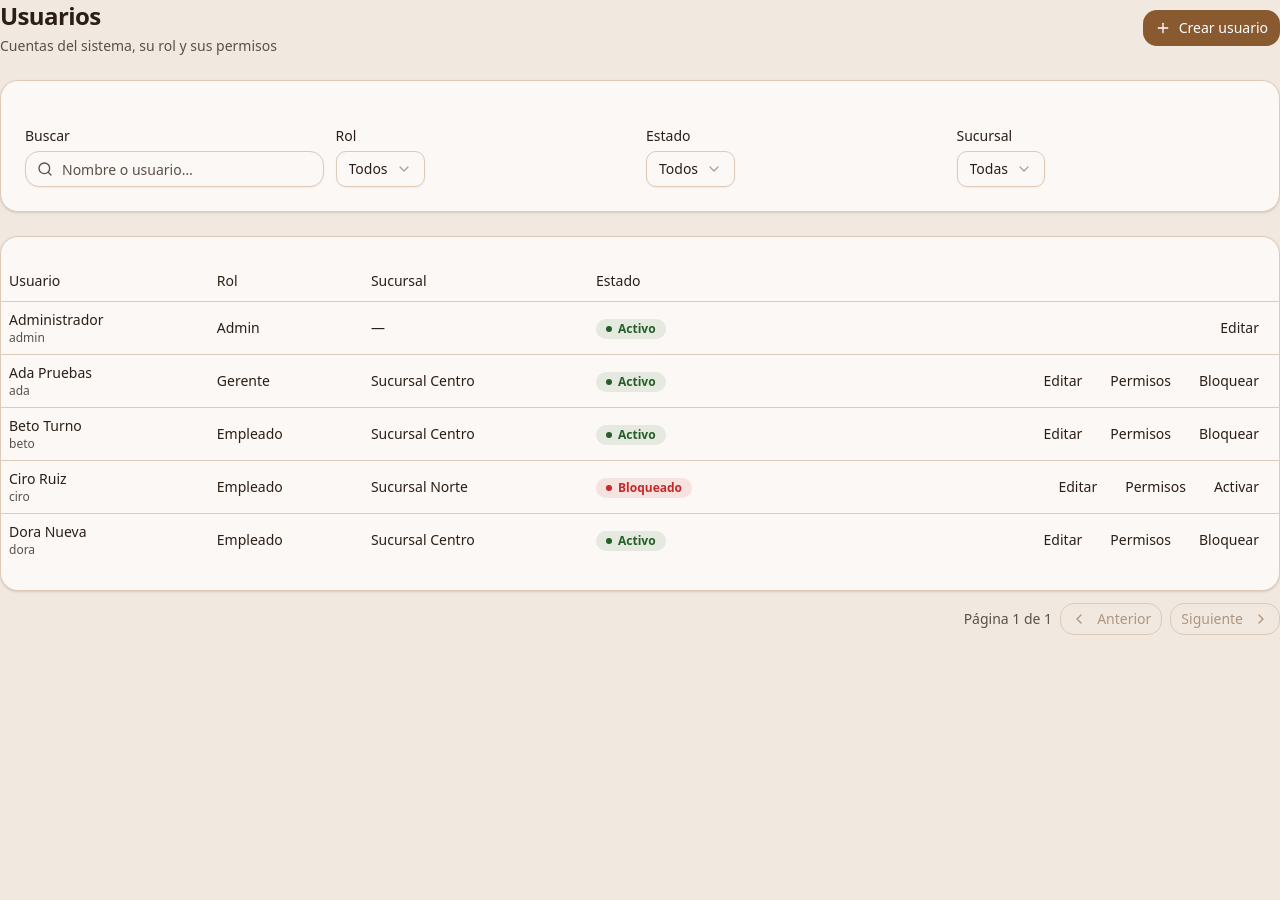
Scenario: Permisos de un usuario › no permite revocar un permiso que el actor no posee
Expected: the text "Ada Pruebas" is shown, [9,362,92,382]
Click the button "Permisos" in the row of "Ada Pruebas" at (1141, 380), box [1098,364,1183,396]
(page scrolled)
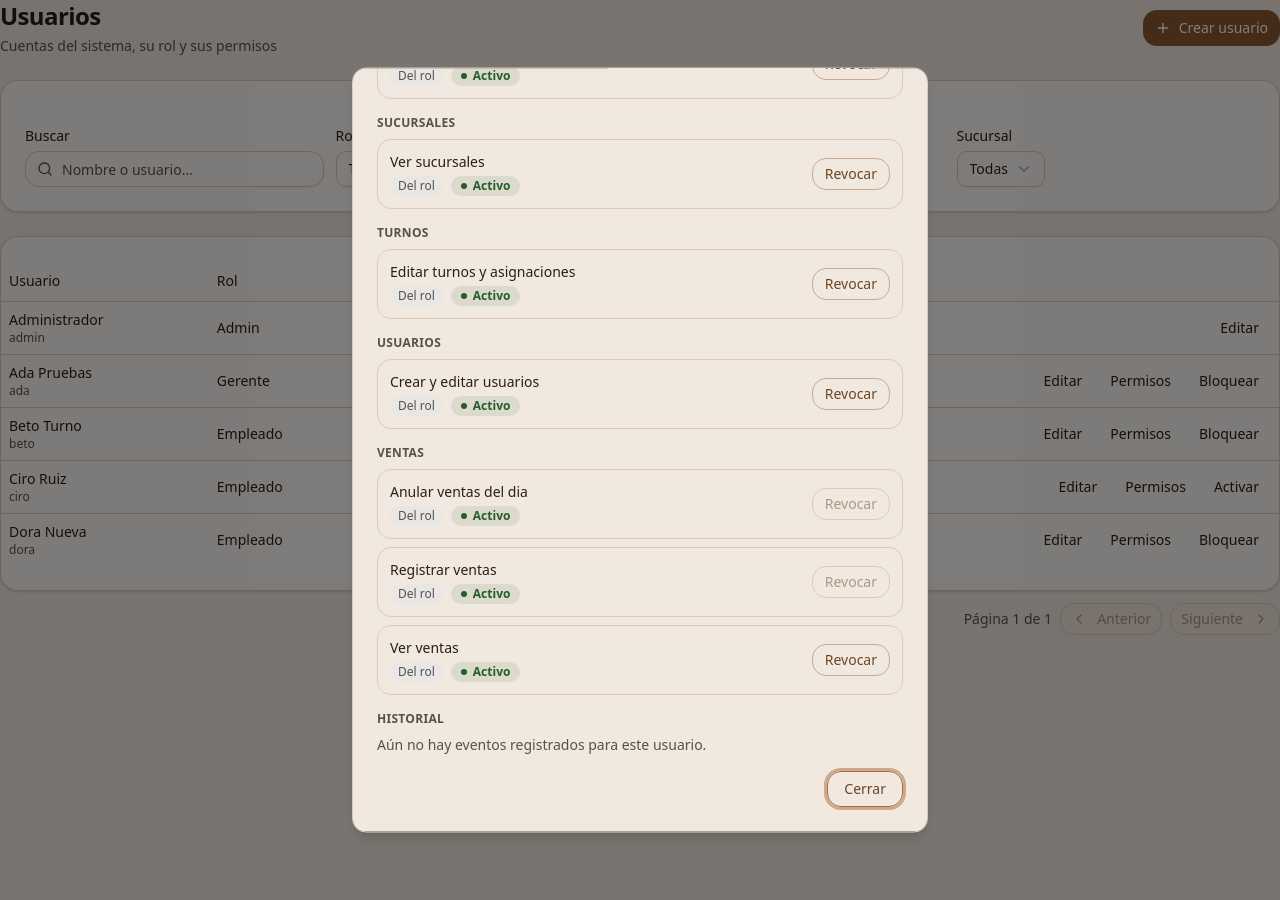
Expected: the text "Registrar ventas" is shown, [390,560,497,580]
Expected: the button "Revocar" in the row of "Registrar ventas" is disabled, [812,566,890,598]
